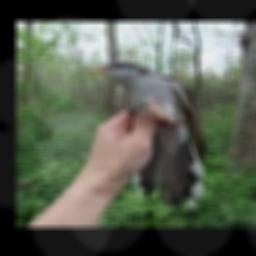Cuckoo: (80, 60, 205, 206)
